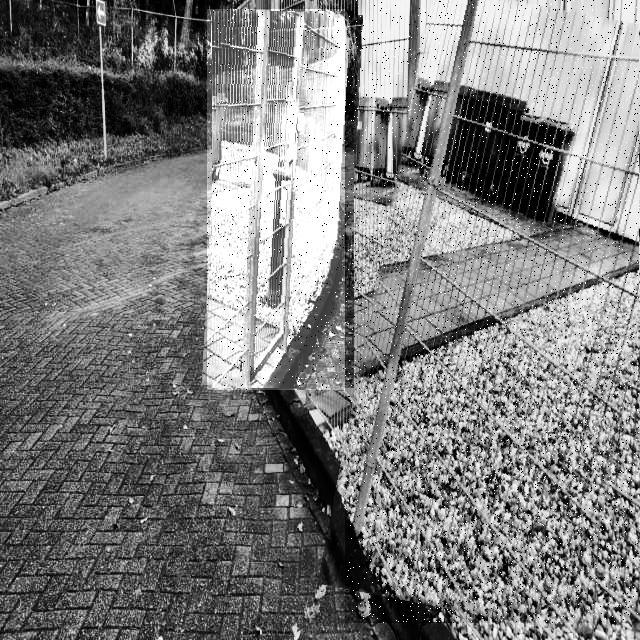fences: (345, 0, 640, 623), (207, 9, 359, 390)
